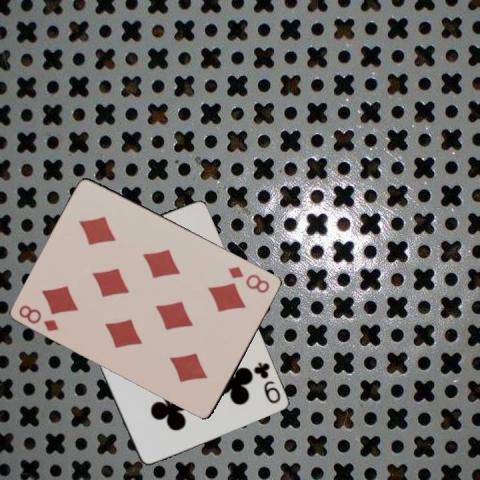8d: (226, 263, 272, 295), (15, 301, 61, 333)
9c: (250, 359, 282, 405)
